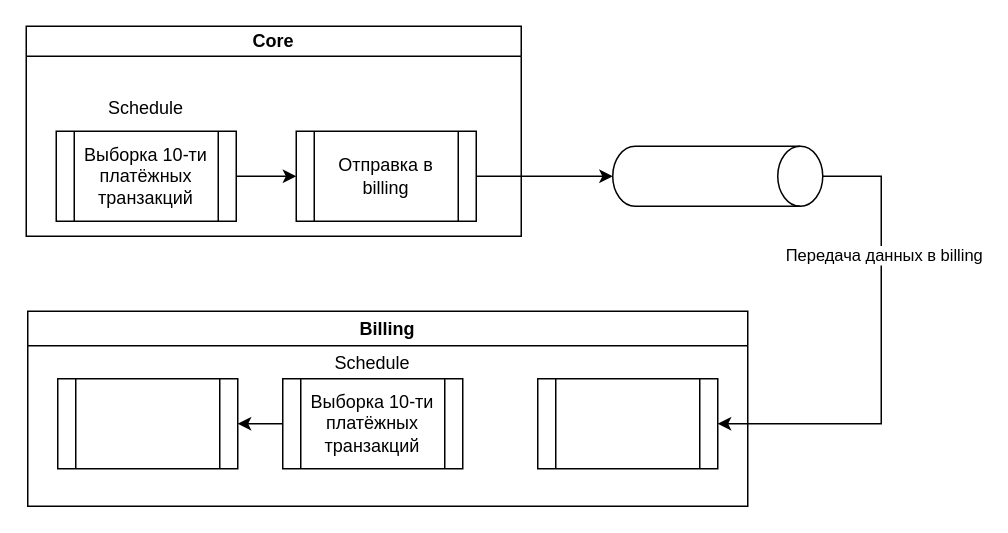
Image size: 1008x533. Some labels were removed from this diagram. Each missing label, with the centre of its shape:
"GRPC" belongs at pixel 717 175.
"Расчёт коммисий" belongs at pixel 147 423.
"Сохранение полученных данных" belongs at pixel 627 423.
